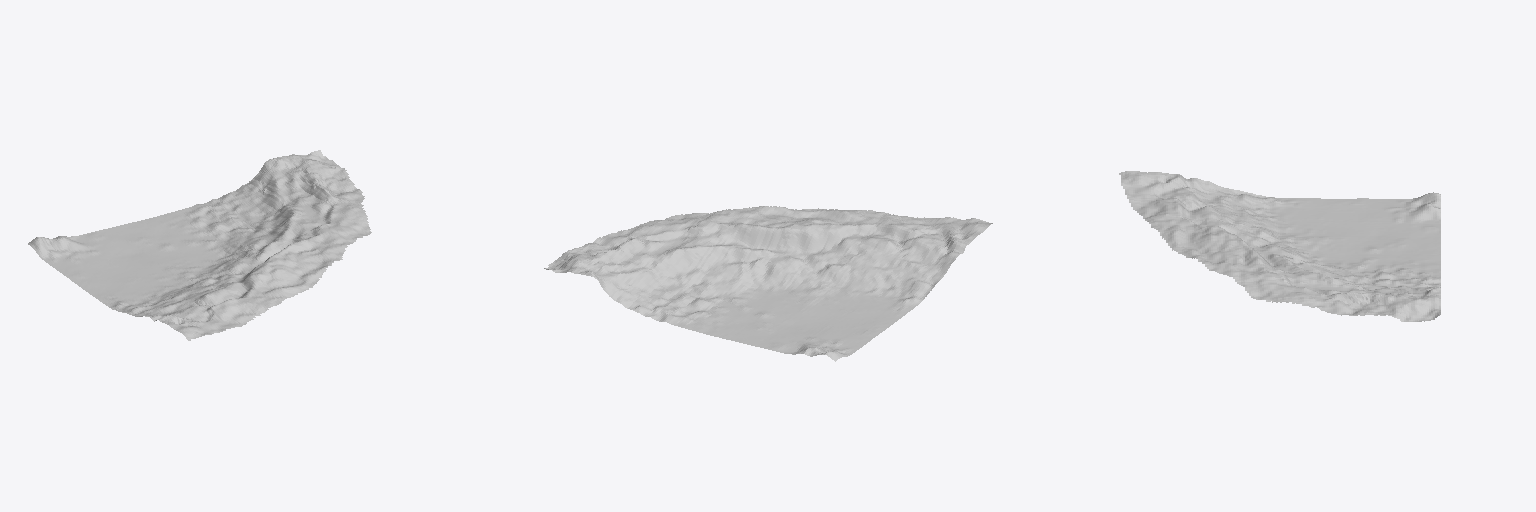
The model's file is landscape1_2.obj.
The picture shows the model from 3 angles: view 1: azimuth 30°, elevation 25°; view 2: azimuth 150°, elevation 25°; view 3: azimuth 270°, elevation 25°; orthographic projection.
Visible parts, largest first — view 1: landscape1.002; view 2: landscape1.002; view 3: landscape1.002.
Part boxes in pixels (x1,y1,x2,y2): landscape1.002: (28, 150, 371, 340); landscape1.002: (544, 206, 992, 361); landscape1.002: (1119, 171, 1440, 321).
Size of the model in its own units: 217 by 22.15 by 204.